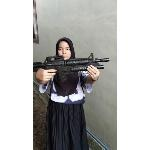Senapan: (33, 52, 115, 82)
